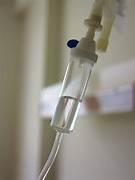Iv_Bottle: (51, 48, 93, 132)
